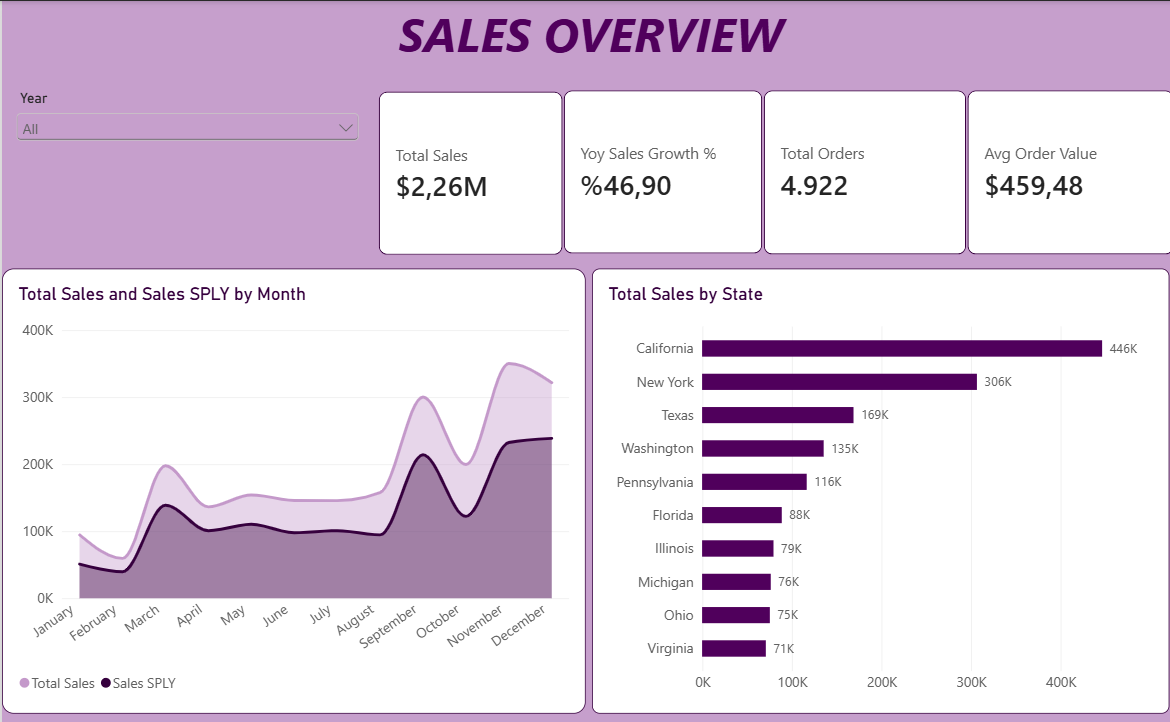

The page's visual inventory and layout, read from the dashboard file:
{"tool":"powerbi","page":{"name":"Sales Overview","canvas":[1198,750],"ordinal":0},"visuals":[{"type":"textbox","box":[10.3,0,1183.5,90.6],"z":0},{"type":"cardVisual","fields":{"Data":["Measures (2).Total Sales"]},"box":[384.7,92,189.2,168.7],"z":1000},{"type":"cardVisual","fields":{"Data":["Measures (2).Yoy Sales Growth %"]},"box":[573.9,90.7,204.5,168.7],"z":2000},{"type":"cardVisual","fields":{"Data":["Measures (2).Total Orders"]},"box":[778.4,90.7,208.3,170],"z":3000},{"type":"cardVisual","fields":{"Data":["Measures (2).Avg Order Value"]},"box":[986.7,90.7,212.2,170],"z":4000},{"type":"lineChart","title":"Total Sales and Sales SPLY by Month","fields":{"Category":["Dim_Date.Month Name"],"Y":["Measures (2).Total Sales","Measures (2).Sales SPLY"]},"box":[0,273.8,596.9,454.9],"z":5000},{"type":"clusteredBarChart","title":"Total Sales by State","fields":{"Category":["Dim_Geography.State"],"Y":["Measures (2).Total Sales"]},"box":[603.1,273.8,590.7,454.9],"z":6000},{"type":"slicer","fields":{"Values":["Dim_Date.Year"]},"box":[10.2,90.7,359.2,168.7],"z":6001}]}

Visuals, with their boxes in screenshot pixels (x1, y1, x2, y2), scaled from the page's 1198x750 canvas onto the 1170x722 screenshot:
textbox: bbox(10, 0, 1166, 87)
cardVisual - Measures (2).Total Sales: bbox(376, 89, 560, 251)
cardVisual - Measures (2).Yoy Sales Growth %: bbox(560, 87, 760, 250)
cardVisual - Measures (2).Total Orders: bbox(760, 87, 964, 251)
cardVisual - Measures (2).Avg Order Value: bbox(964, 87, 1169, 251)
"Total Sales and Sales SPLY by Month" lineChart: bbox(0, 264, 583, 701)
"Total Sales by State" clusteredBarChart: bbox(589, 264, 1166, 701)
slicer - Dim_Date.Year: bbox(10, 87, 361, 250)
